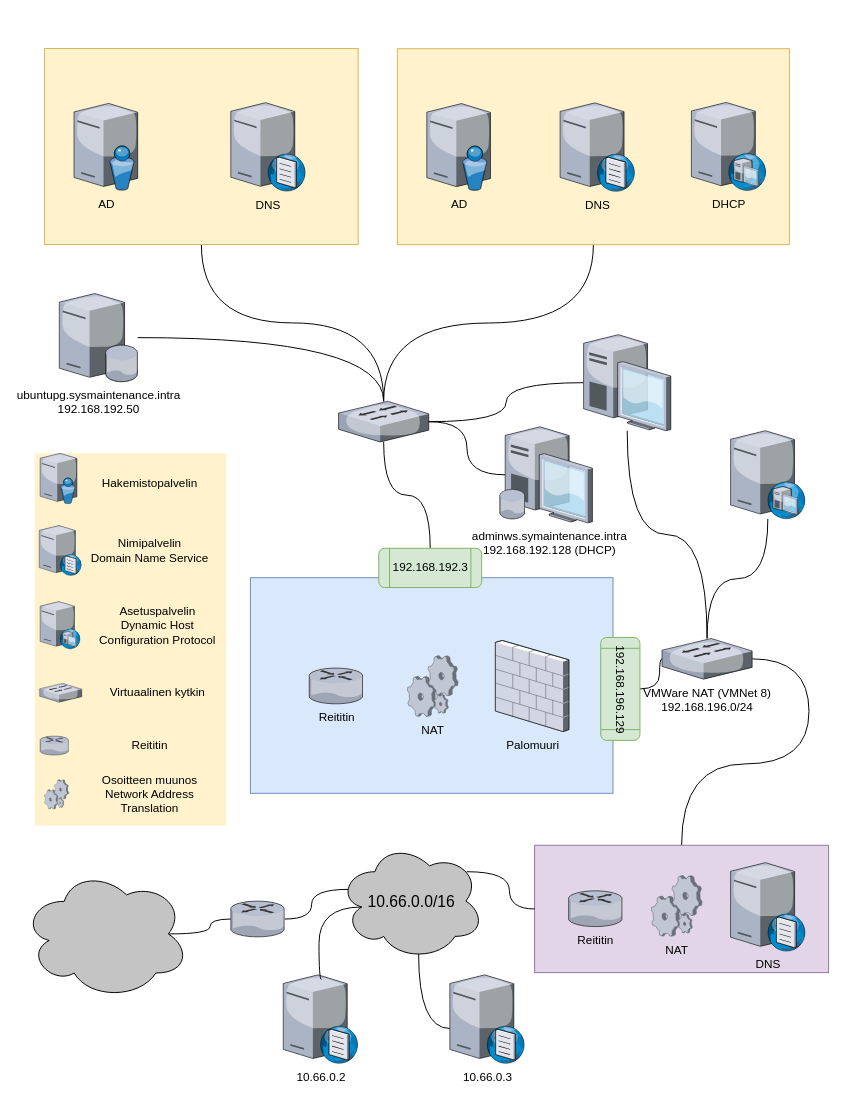
The diagram is 846 pixels wide and 1101 high, and some of its shapes have lost their labels. The shapes that lost their labels are listed below. From the top down, each one's box as (x1, y1, x2, y2) in pixels, then its label:
(44, 48, 358, 245): jtad1.sysmaintenance.intra 192.168.192.10
(396, 48, 789, 245): jtad2.sysmaintenance.intra 192.168.192.11
(583, 334, 670, 430): VMWare Host 192.168.196.1 192.168.192.1
(338, 401, 428, 441): VMWare HostOnly (VMNet 2) 192.168.192.0/24
(730, 430, 805, 518): VMWare DHCP 192.168.196.254
(249, 577, 613, 793): OpnSense
(534, 844, 829, 973): VMWare Gateway 192.168.196.2
(22, 868, 189, 999): Internet
